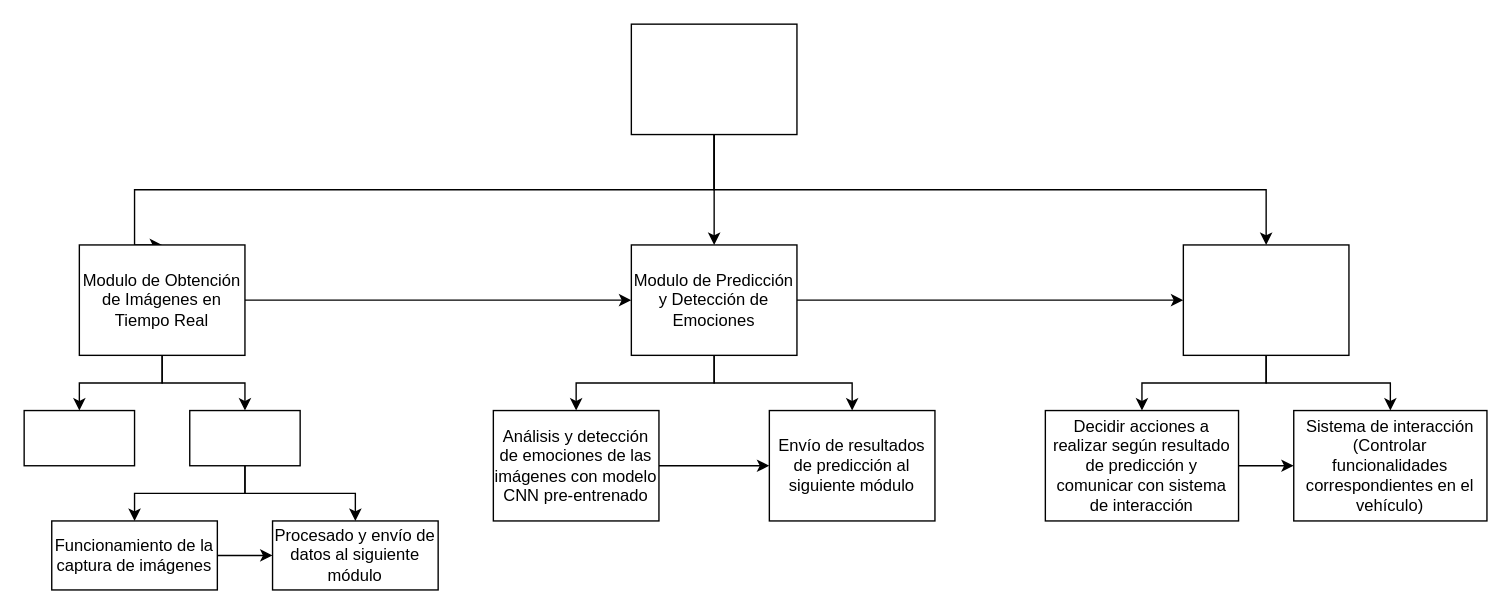
This 1511x614 diagram has some shape labels left out. The shapes that lost their labels are listed below. From the top down, each one's centre as x and y in pixels, then its label:
point 713,79: COCHE
point 1265,299: Modulo de Interacción
point 79,437: Hardware (Cámaras)
point 244,437: Software
